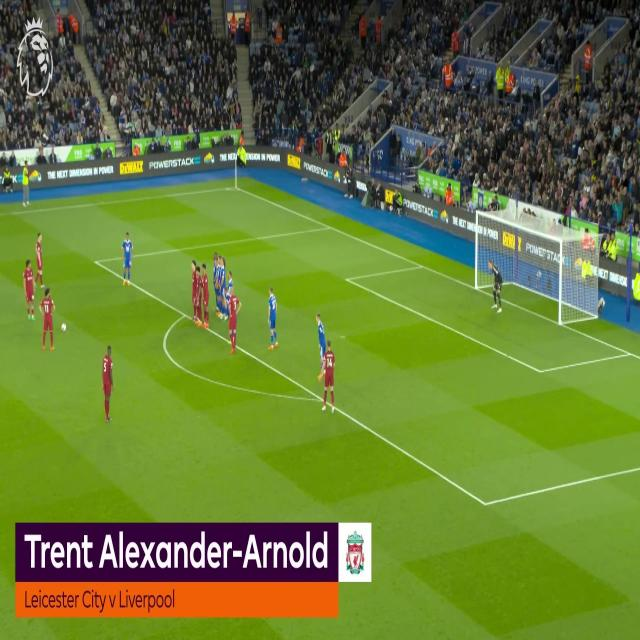left-top: (478, 210, 518, 230)
soccer-goal: (476, 210, 560, 325)
